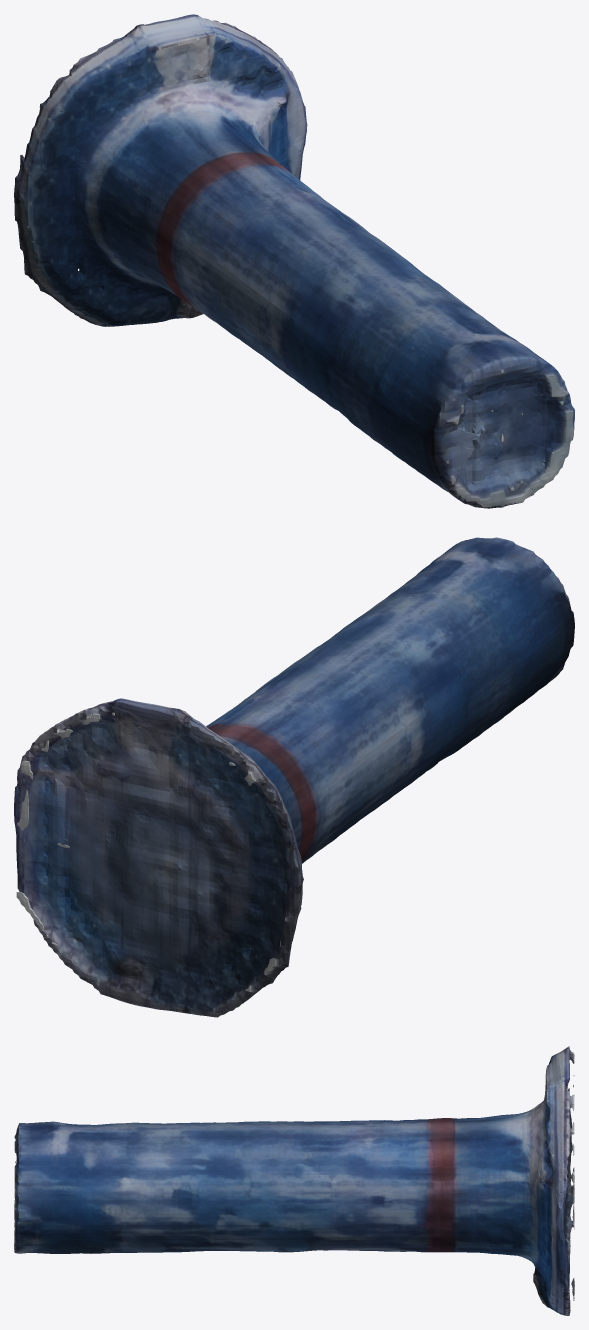
File: 0_rgba.obj
3 views of the same model, one above another, from view 1: azimuth 30°, elevation 25°; view 2: azimuth 150°, elevation 25°; view 3: azimuth 270°, elevation 25° (orthographic). The views are drawn at different scales.
Bounding box in the file's own units: 0.9412 × 0.9461 × 2.01.
Materials: 1 (1 with a texture image).
